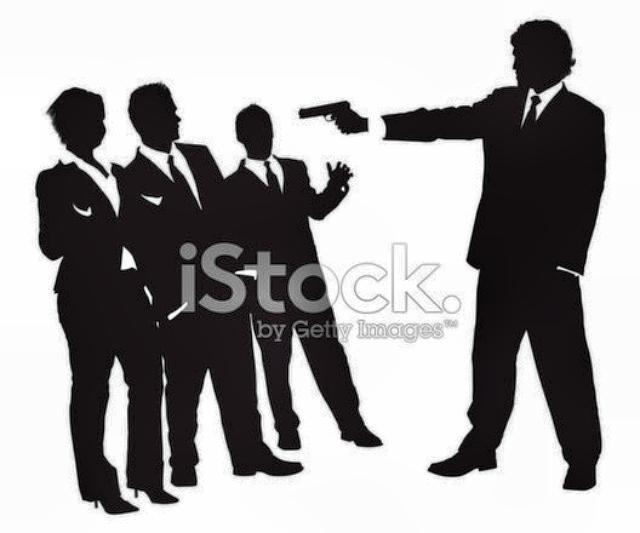pistol: (294, 98, 354, 134)
